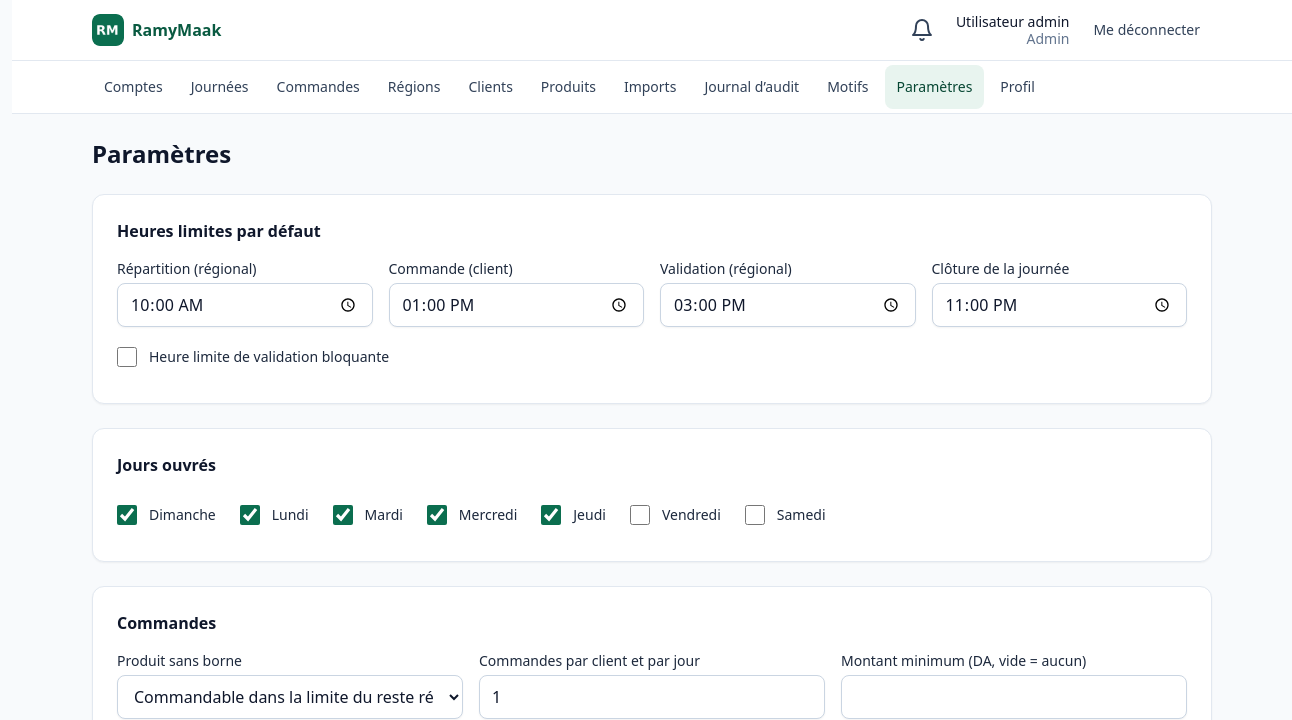
Test: admin — settings › saves the settings and confirms once the form shows the stored values
The width and height of the screenshot is (1292, 720).
Replace the text in the time field labelled "Commande (client)" with "13:30" at [516, 305], box [388,283,644,327]
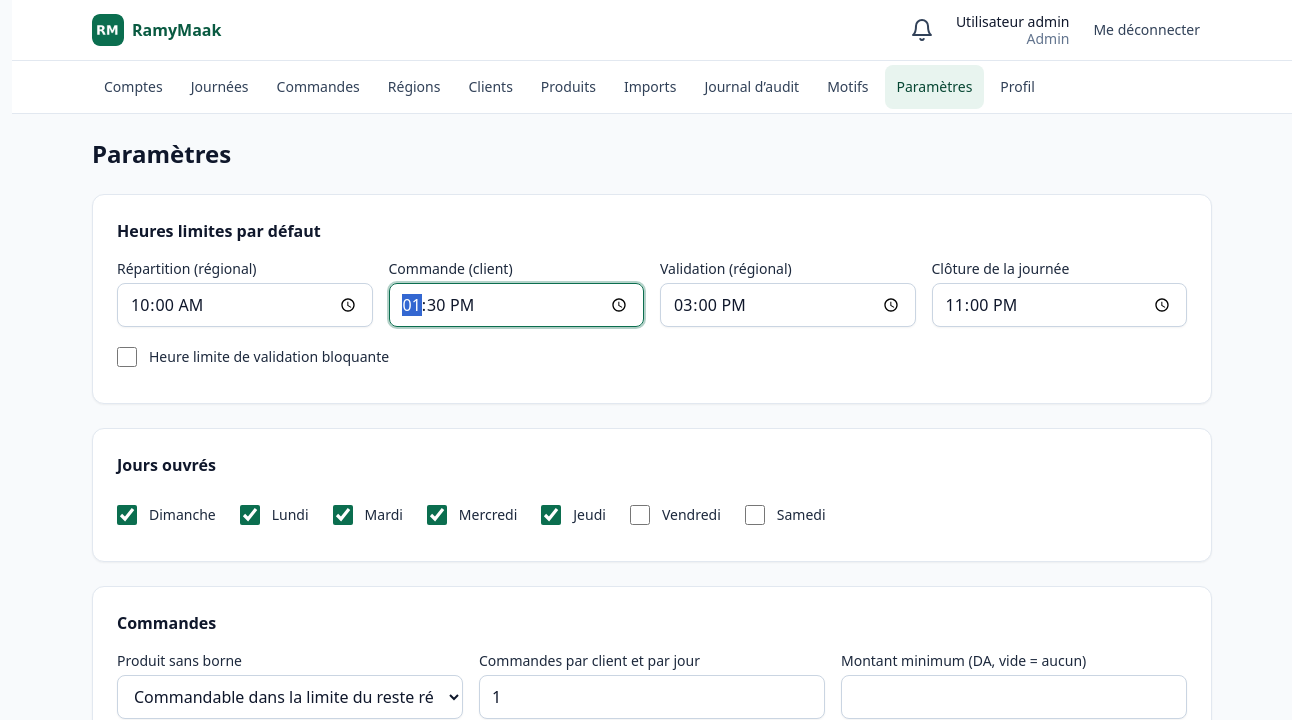
Click the checkbox labelled "Samedi".
click(755, 515)  # box [745,505,765,525]
(page scrolled)
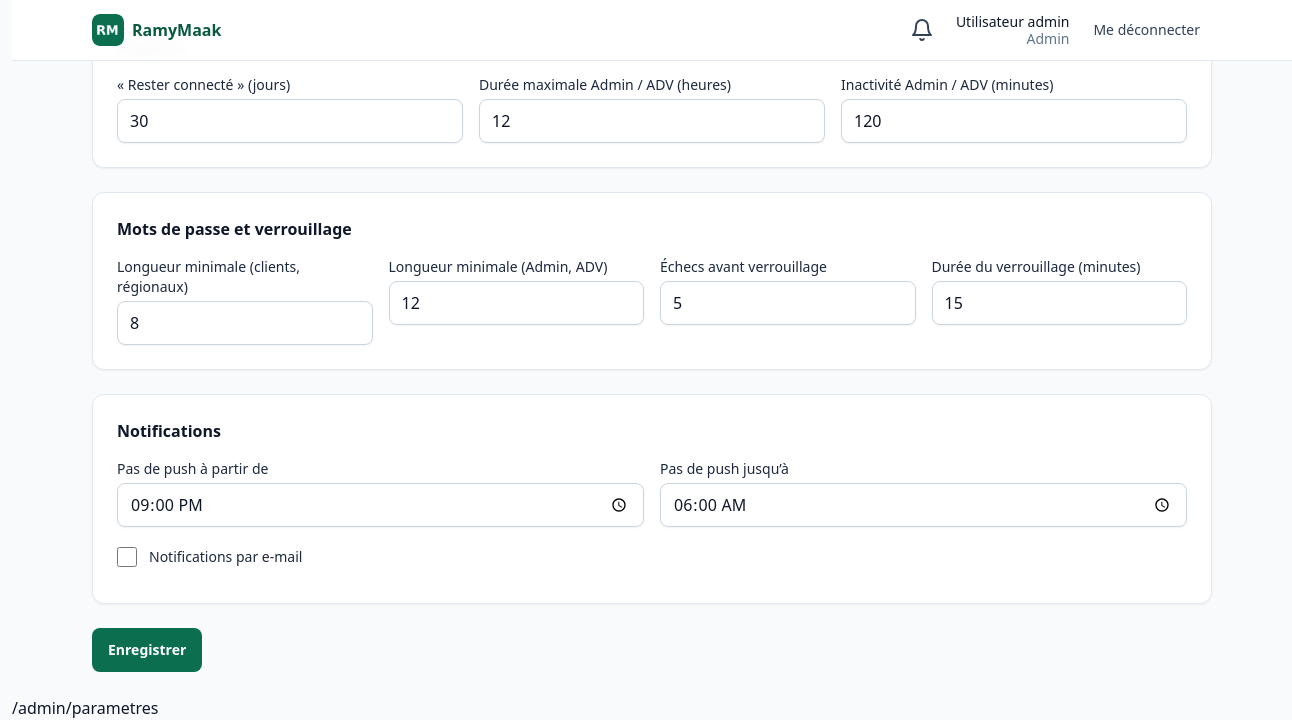
Click the button "Enregistrer".
click(147, 650)  # box [92,628,202,672]
(page scrolled)
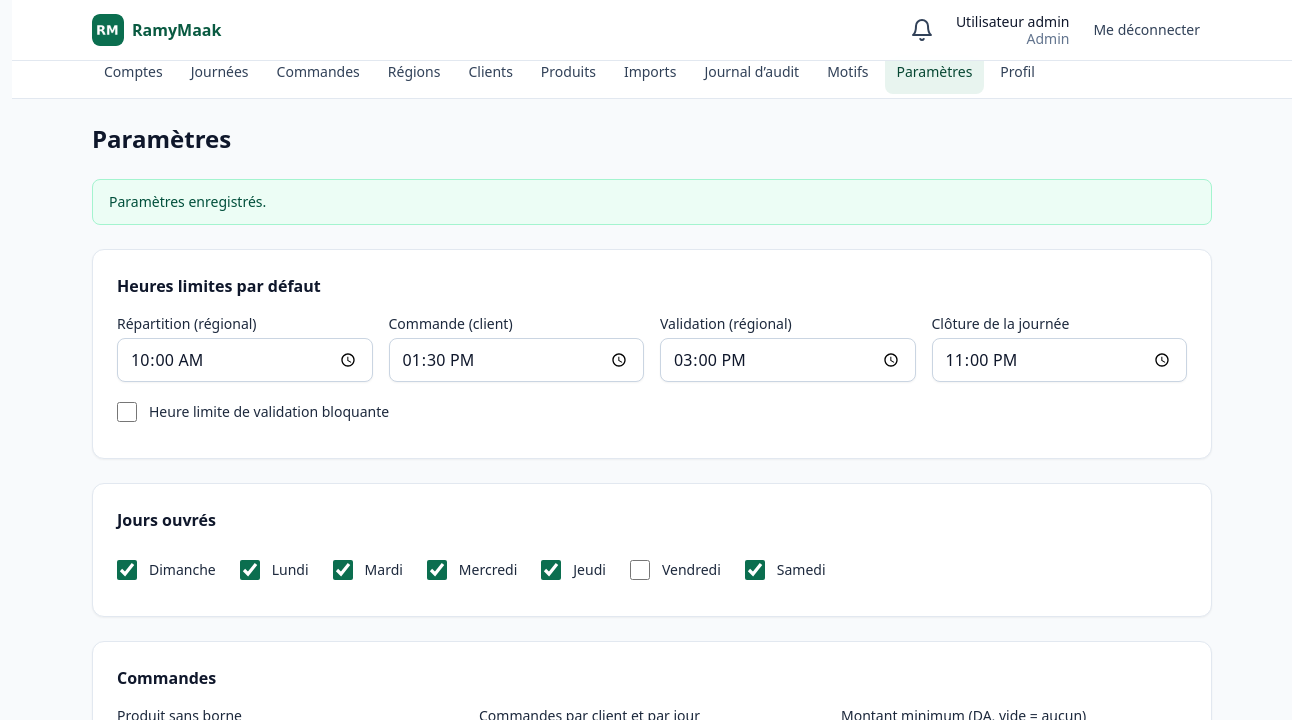
Check: the text "Paramètres enregistrés." is shown, box [92,179,1212,225]
Check: the time field labelled "Commande (client)" holds "13:30", box [388,338,644,382]
